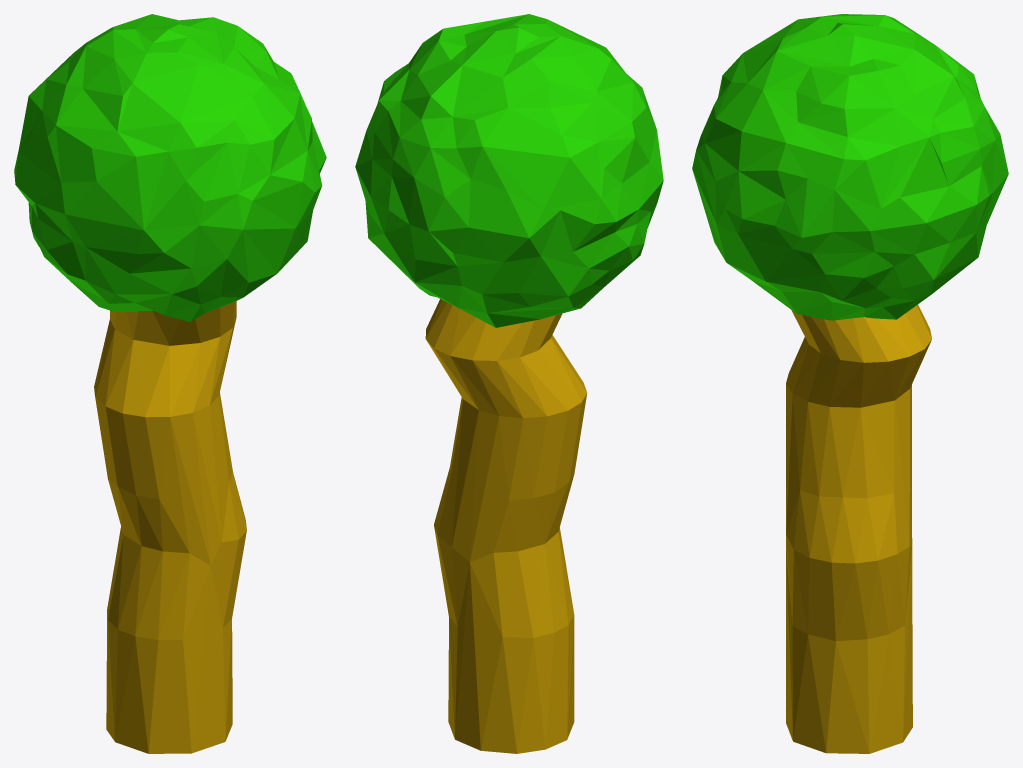
File: tree.dae
3 renders of one model, left to right at view 1: azimuth 30°, elevation 25°; view 2: azimuth 150°, elevation 25°; view 3: azimuth 270°, elevation 25°, orthographic.
Visible parts, largest first — view 1: Icosphere; view 2: Icosphere; view 3: Icosphere.
Boxes of the visible parts, x1,y1,x2,y2 form: Icosphere: [14, 14, 326, 753]; Icosphere: [355, 14, 663, 753]; Icosphere: [692, 14, 1008, 753].
Bounding box in the file's own units: 1.94 × 2.01 × 4.91.
